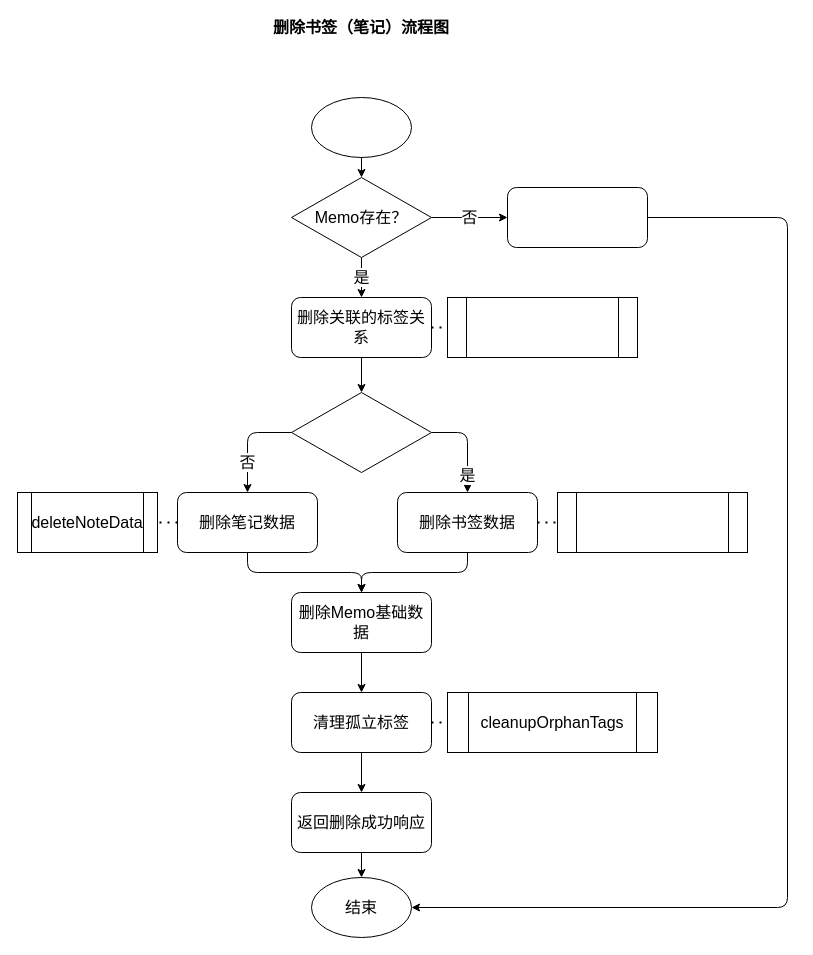
This 813x955 diagram has some shape labels left out. The centre of each missing label's shape, as x and y in pixels:
"deleteBookmarkData" belongs at point (652, 522).
"deleteTagRelations" belongs at point (542, 327).
"开始" belongs at point (361, 127).
"是否为书签类型？" belongs at point (361, 432).
"返回错误：Memo不存在" belongs at point (577, 217).
